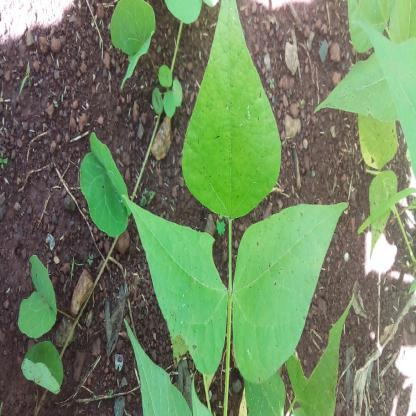Beans_Angular_LeafSpot: (230, 202, 348, 378), (185, 0, 274, 215), (357, 103, 401, 171)
